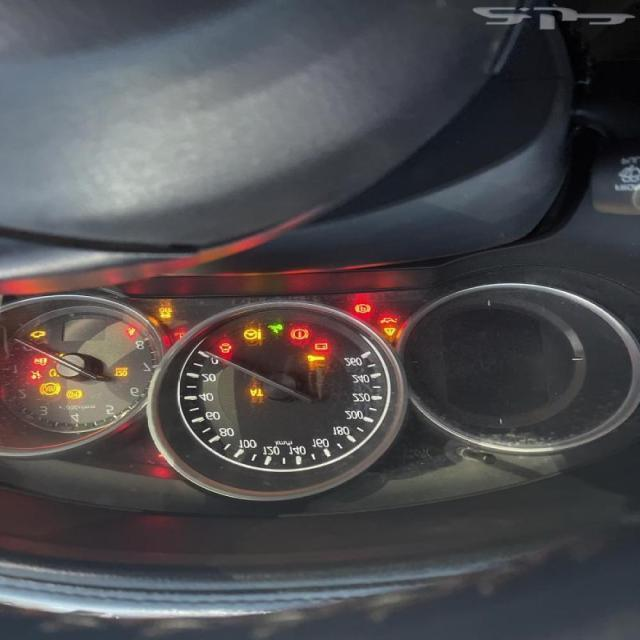Electronic Power Steering: (244, 328, 262, 341)
Seat Belt: (127, 326, 136, 336)
